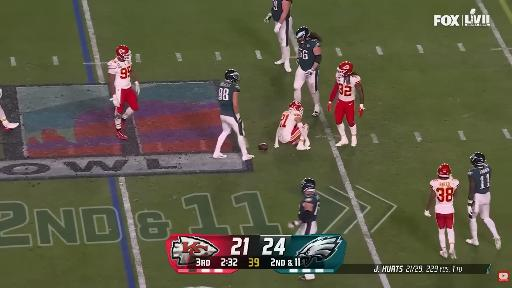Helmet: (115, 45, 131, 61), (337, 62, 353, 76), (471, 152, 485, 167), (296, 27, 310, 42), (302, 178, 315, 193), (225, 70, 239, 83), (289, 101, 303, 114), (438, 164, 451, 177)
Jersey: (430, 179, 459, 214), (218, 81, 239, 117), (298, 39, 319, 71), (468, 164, 491, 193), (108, 59, 131, 88), (336, 75, 361, 101), (298, 193, 319, 221), (279, 110, 301, 134), (271, 0, 291, 21)
Player: (214, 70, 253, 160), (467, 152, 501, 249), (425, 164, 459, 259), (107, 45, 140, 140), (327, 62, 364, 146), (294, 27, 321, 116), (264, 0, 296, 72), (288, 178, 319, 234), (275, 102, 310, 150), (0, 106, 18, 131)
